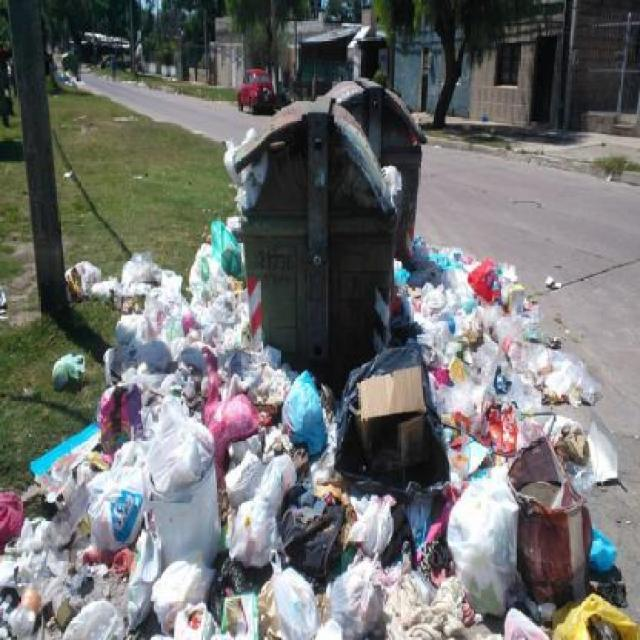garbage: (45, 111, 624, 635), (0, 474, 38, 637)
